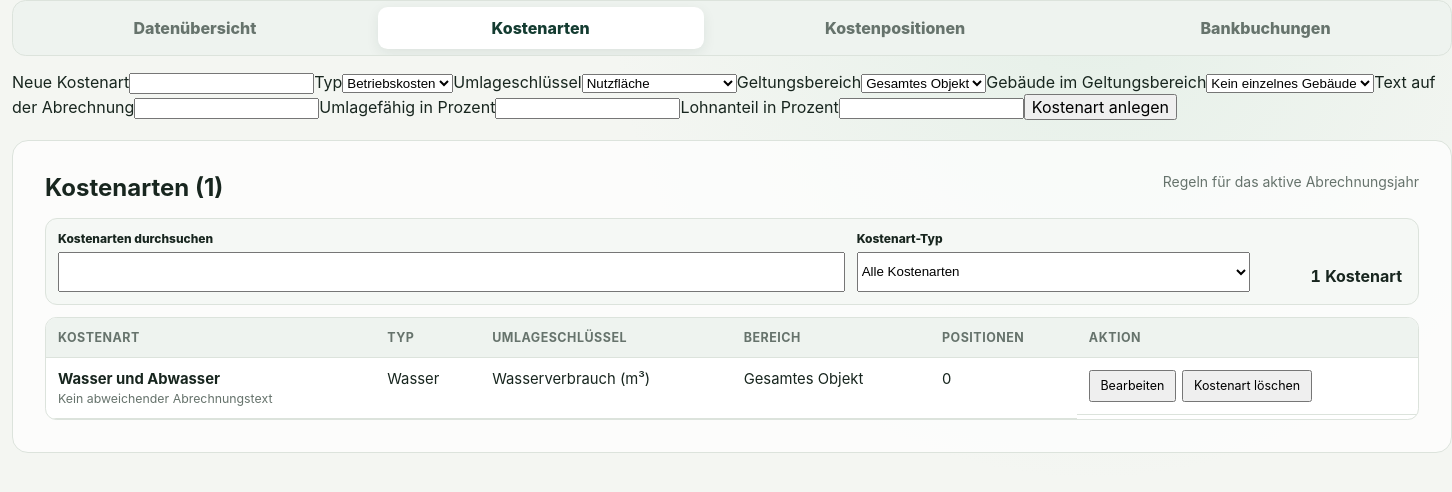
Verbrauch laut Hauptwasserzähler an der Kostenart (ADR-0013, E-45-3) › bietet das Feld nur bei Art „Wasser“ an
The image size is (1452, 492).
Expected: the field labelled "Verbrauch laut Hauptwasserzähler in m³ (optional)" is not shown
Step 1. Select "Wasser" in the dropdown labelled "Typ" → (398, 84), box [342, 74, 453, 93]
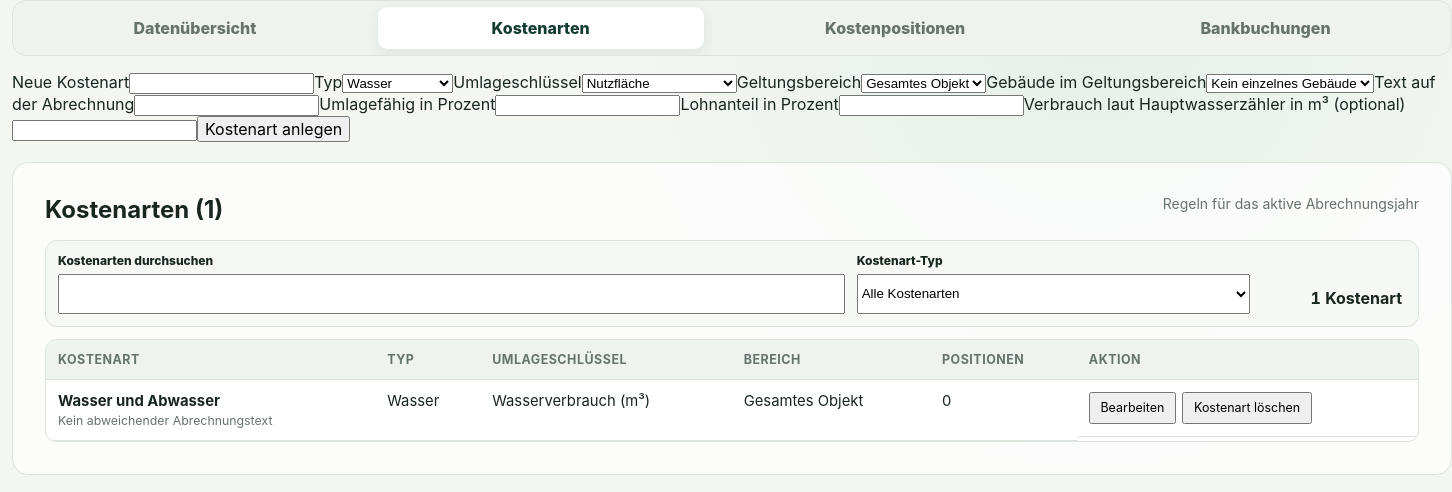
Expected: the field labelled "Verbrauch laut Hauptwasserzähler in m³ (optional)" is empty, [12, 120, 197, 141]
Step 2. Select "Heizung" in the dropdown labelled "Typ" → (398, 84), box [342, 74, 453, 93]
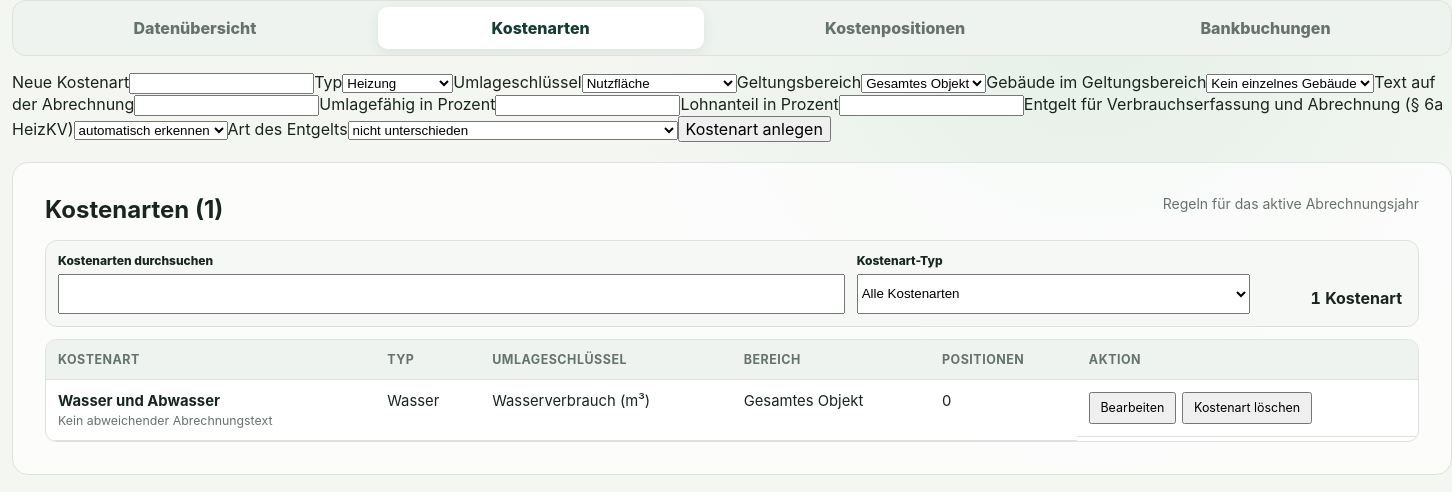
Expected: the text labelled "Verbrauch laut Hauptwasserzähler in m³ (optional)" is gone
